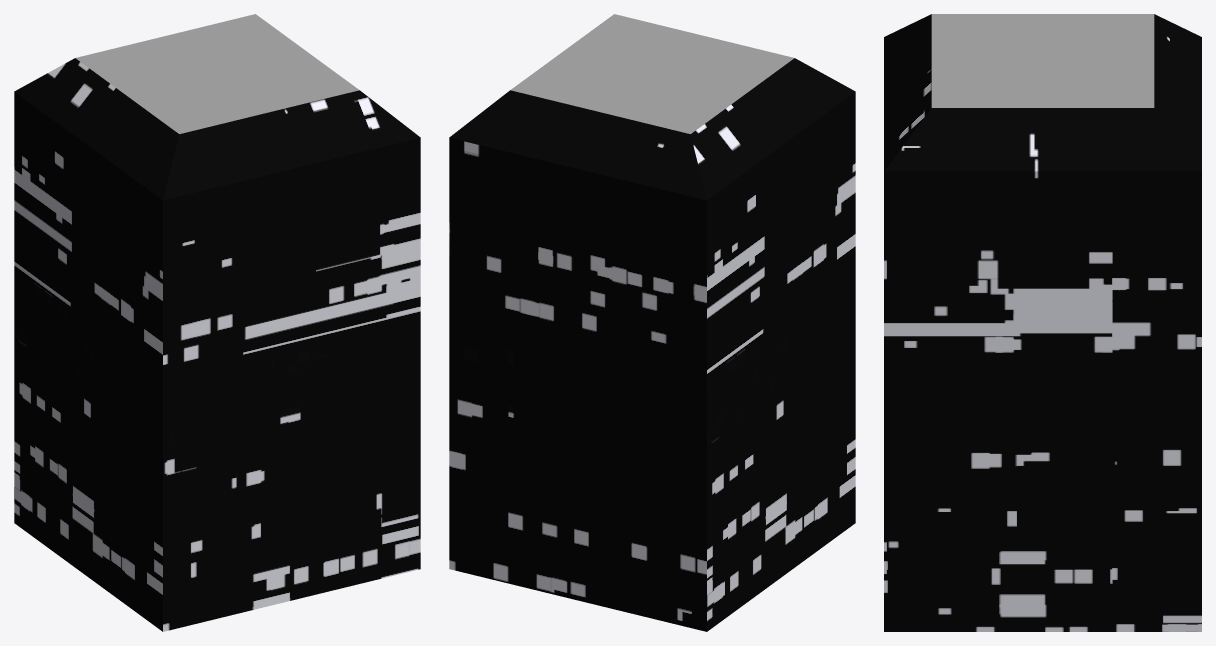
The model's file is Building02.fbx.
3 views of the same model, side by side, from view 1: azimuth 30°, elevation 25°; view 2: azimuth 150°, elevation 25°; view 3: azimuth 270°, elevation 25° (orthographic). The views are drawn at different scales.
Parts seen in each view (by area): view 1: Building02; view 2: Building02; view 3: Building02.
Part boxes in pixels (x1,y1,x2,y2): Building02: (14, 14, 420, 631); Building02: (449, 14, 855, 631); Building02: (884, 14, 1201, 631).
Size of the model in its own units: 0.3639 by 0.6368 by 0.3639.
